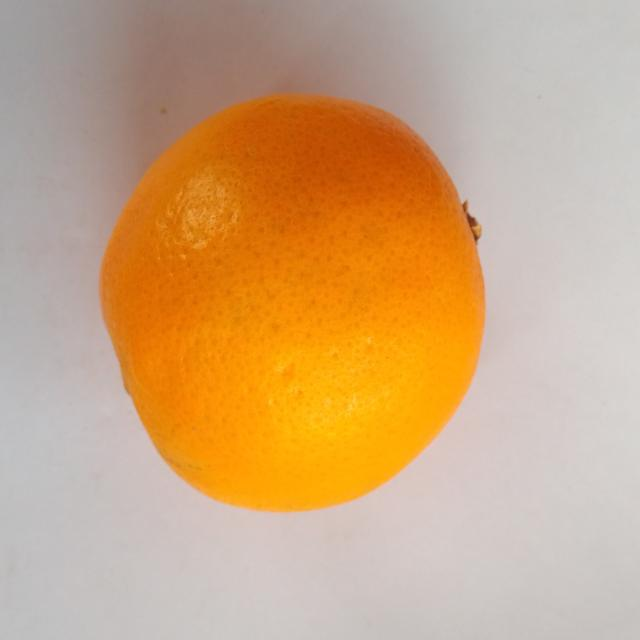orange: (101, 95, 484, 510)
